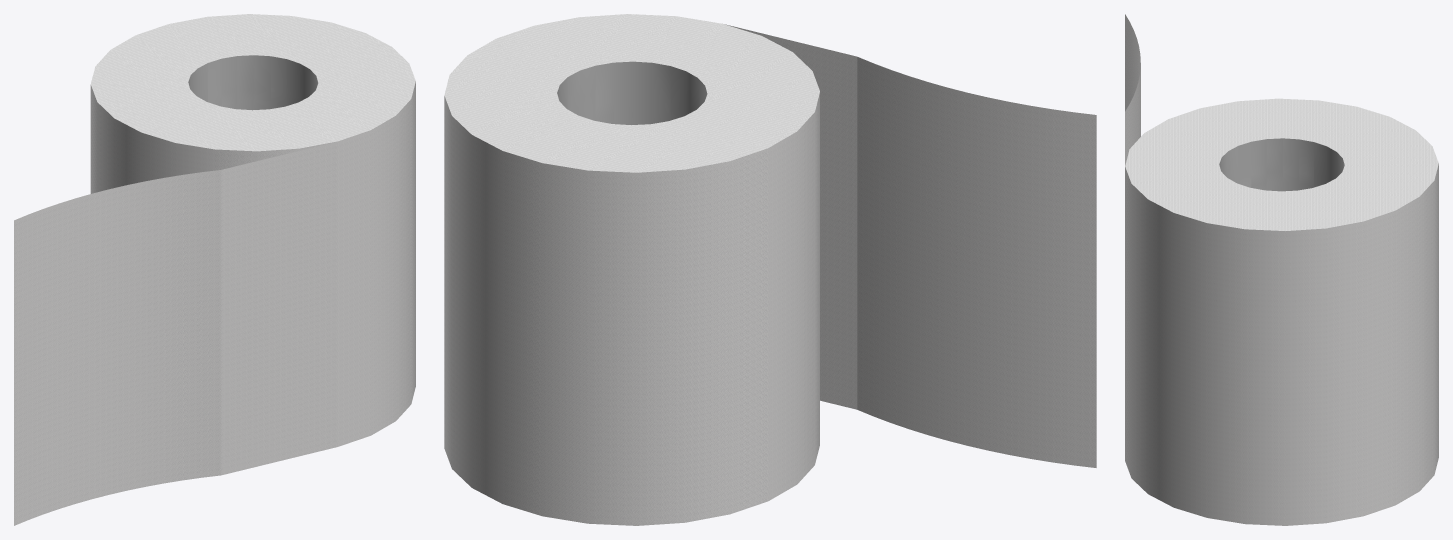
3 renders of one model, left to right at view 1: azimuth 30°, elevation 25°; view 2: azimuth 150°, elevation 25°; view 3: azimuth 270°, elevation 25°, orthographic. The views are drawn at different scales.
Parts seen in each view (by area): view 1: SketchUp (×4); view 2: SketchUp (×4); view 3: SketchUp (×4).
Boxes of the visible parts, left/top/right/bottom form: SketchUp (×4): left=14, top=14, right=415, bottom=525; SketchUp (×4): left=444, top=14, right=1096, bottom=525; SketchUp (×4): left=1125, top=14, right=1438, bottom=525.
Size of the model in its own units: 8.19 by 5 by 5.18.
Materials: 3 (3 with a texture image).
